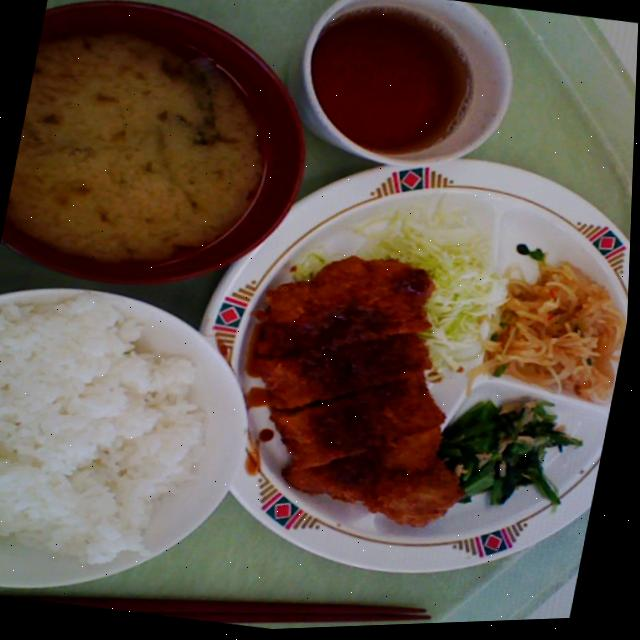汤锅炖物: (1, 0, 330, 291)
米饭主食: (0, 272, 242, 569)
